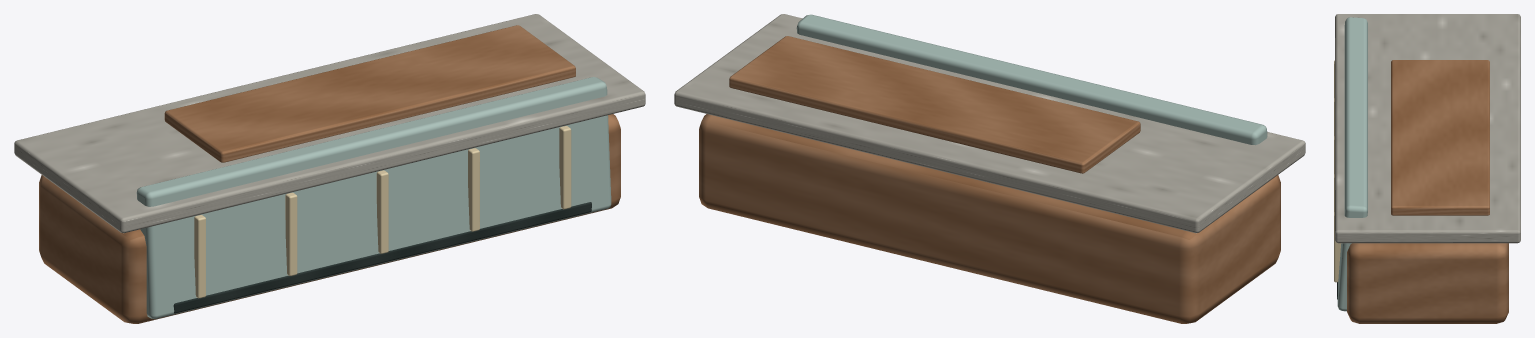
File: reception-desk.glb
The picture shows the model from 3 angles, left to right: view 1: azimuth 30°, elevation 25°; view 2: azimuth 150°, elevation 25°; view 3: azimuth 270°, elevation 25°; orthographic projection. The views are drawn at different scales.
Parts seen in each view (by area): view 1: Reception_Front, Reception_Top, Reception_Worktop, Reception_Base, Reception_Kick, Reception_Rib_1.72, Reception_Rib_-0.86, Reception_Rib_0, Reception_Rib_0.86, Reception_Rib_-1.72; view 2: Reception_Base, Reception_Top, Reception_Worktop, Reception_Front; view 3: Reception_Top, Reception_Worktop, Reception_Base, Reception_Front, Reception_Rib_1.72.
Part boxes in pixels (x1,y1,x2,y2): Reception_Front: (136,77,611,319); Reception_Top: (14,14,645,233); Reception_Worktop: (164,25,575,162); Reception_Base: (39,114,620,323); Reception_Kick: (173,202,591,313); Reception_Rib_1.72: (559,126,571,209); Reception_Rib_-0.86: (285,192,297,275); Reception_Rib_0: (376,170,388,253); Reception_Rib_0.86: (468,148,479,231); Reception_Rib_-1.72: (194,215,205,298); Reception_Base: (699,114,1280,323); Reception_Top: (674,14,1305,233); Reception_Worktop: (729,36,1140,173); Reception_Front: (796,14,1267,145); Reception_Top: (1335,14,1520,243); Reception_Worktop: (1391,60,1489,215); Reception_Base: (1347,243,1508,323); Reception_Front: (1337,17,1367,311); Reception_Rib_1.72: (1334,212,1341,282).
Bounding box in the file's own units: 4.95 × 1.2 × 1.79.
Materials: 6 (4 with a texture image).
